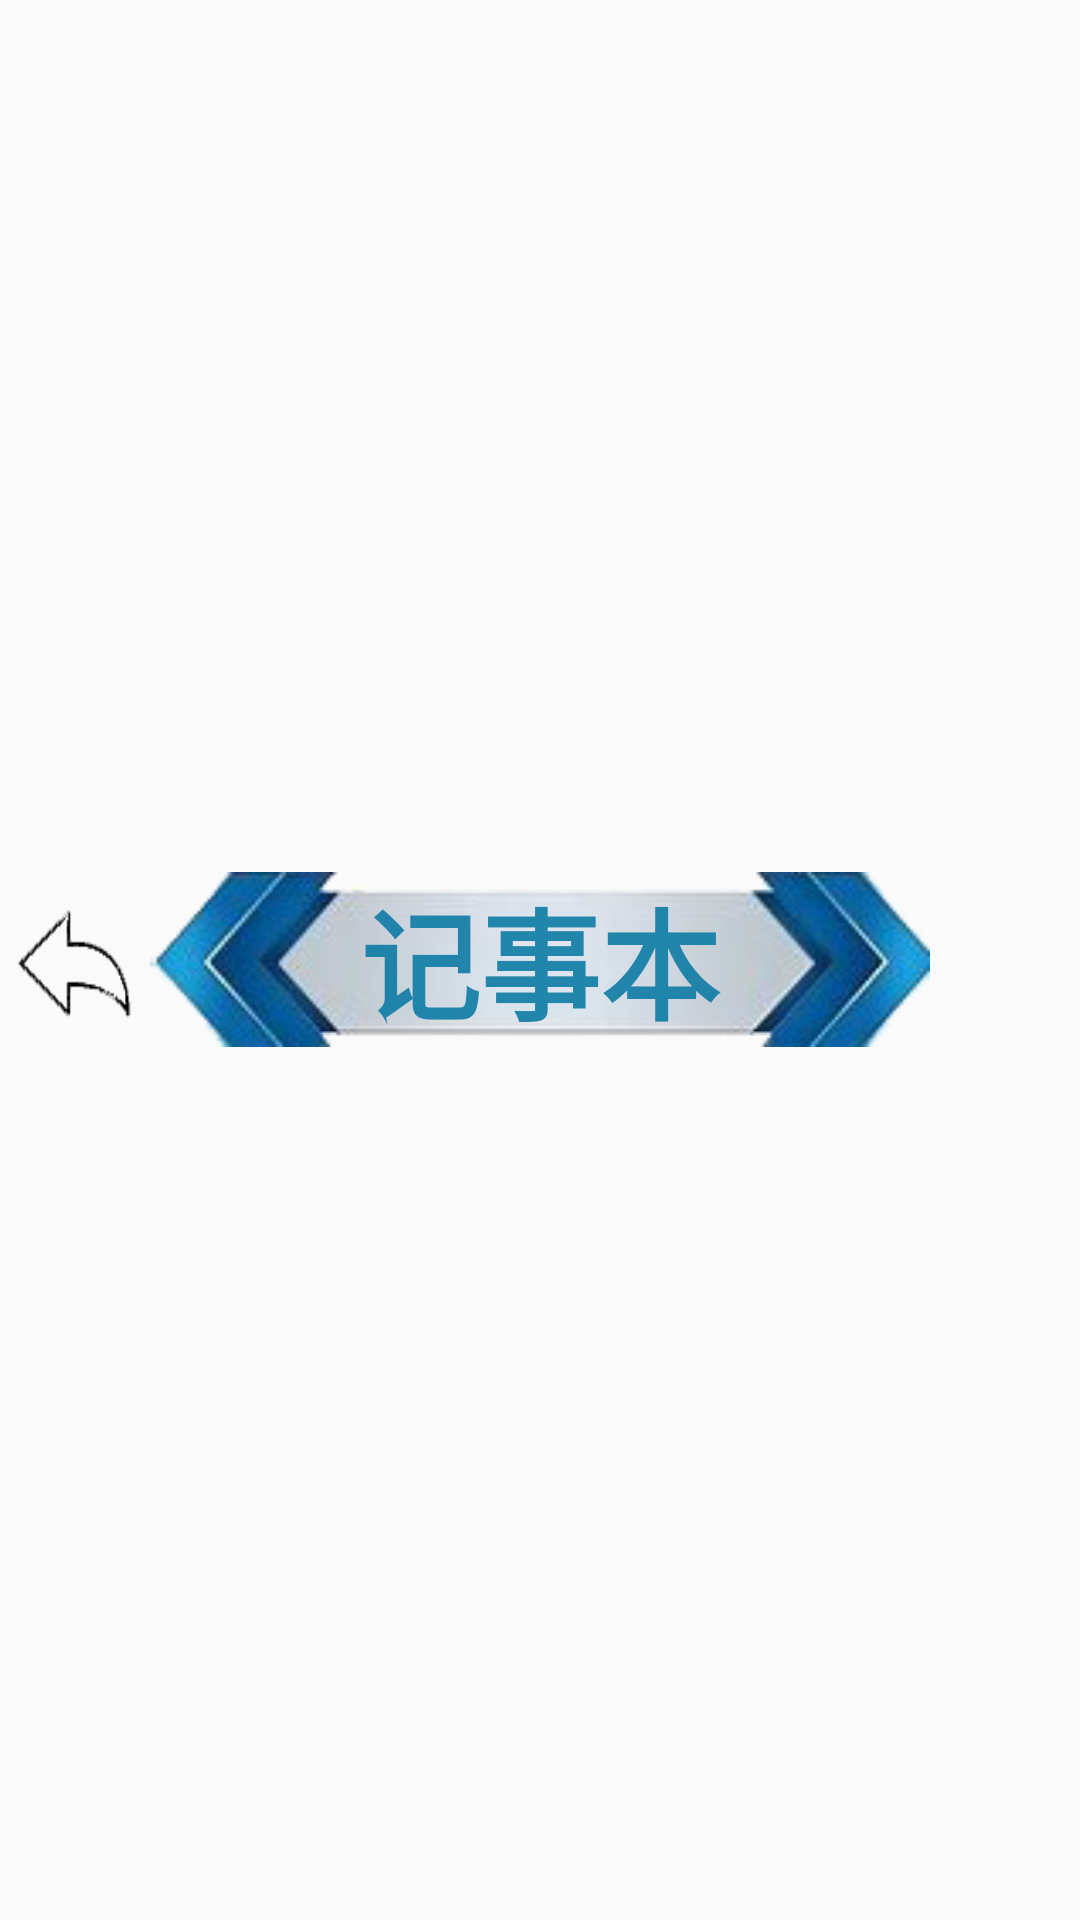

Locate icon controls on the screen. Image size 1080px x 1920px, boxes as (x1, y1, x2, y2).
back: (18, 910, 131, 1017)
